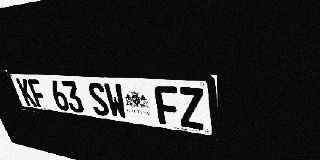3: (61, 81, 85, 113)
6: (47, 80, 71, 111)
F: (154, 85, 181, 127), (26, 79, 49, 108)
K: (16, 78, 37, 107)
S: (86, 82, 111, 117)
W: (103, 83, 128, 119)
Z: (177, 87, 205, 130)
